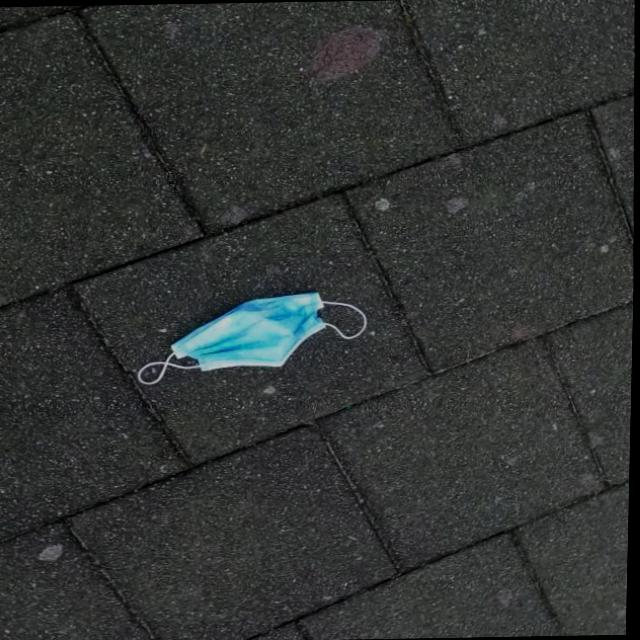Mask: (133, 286, 374, 385)
